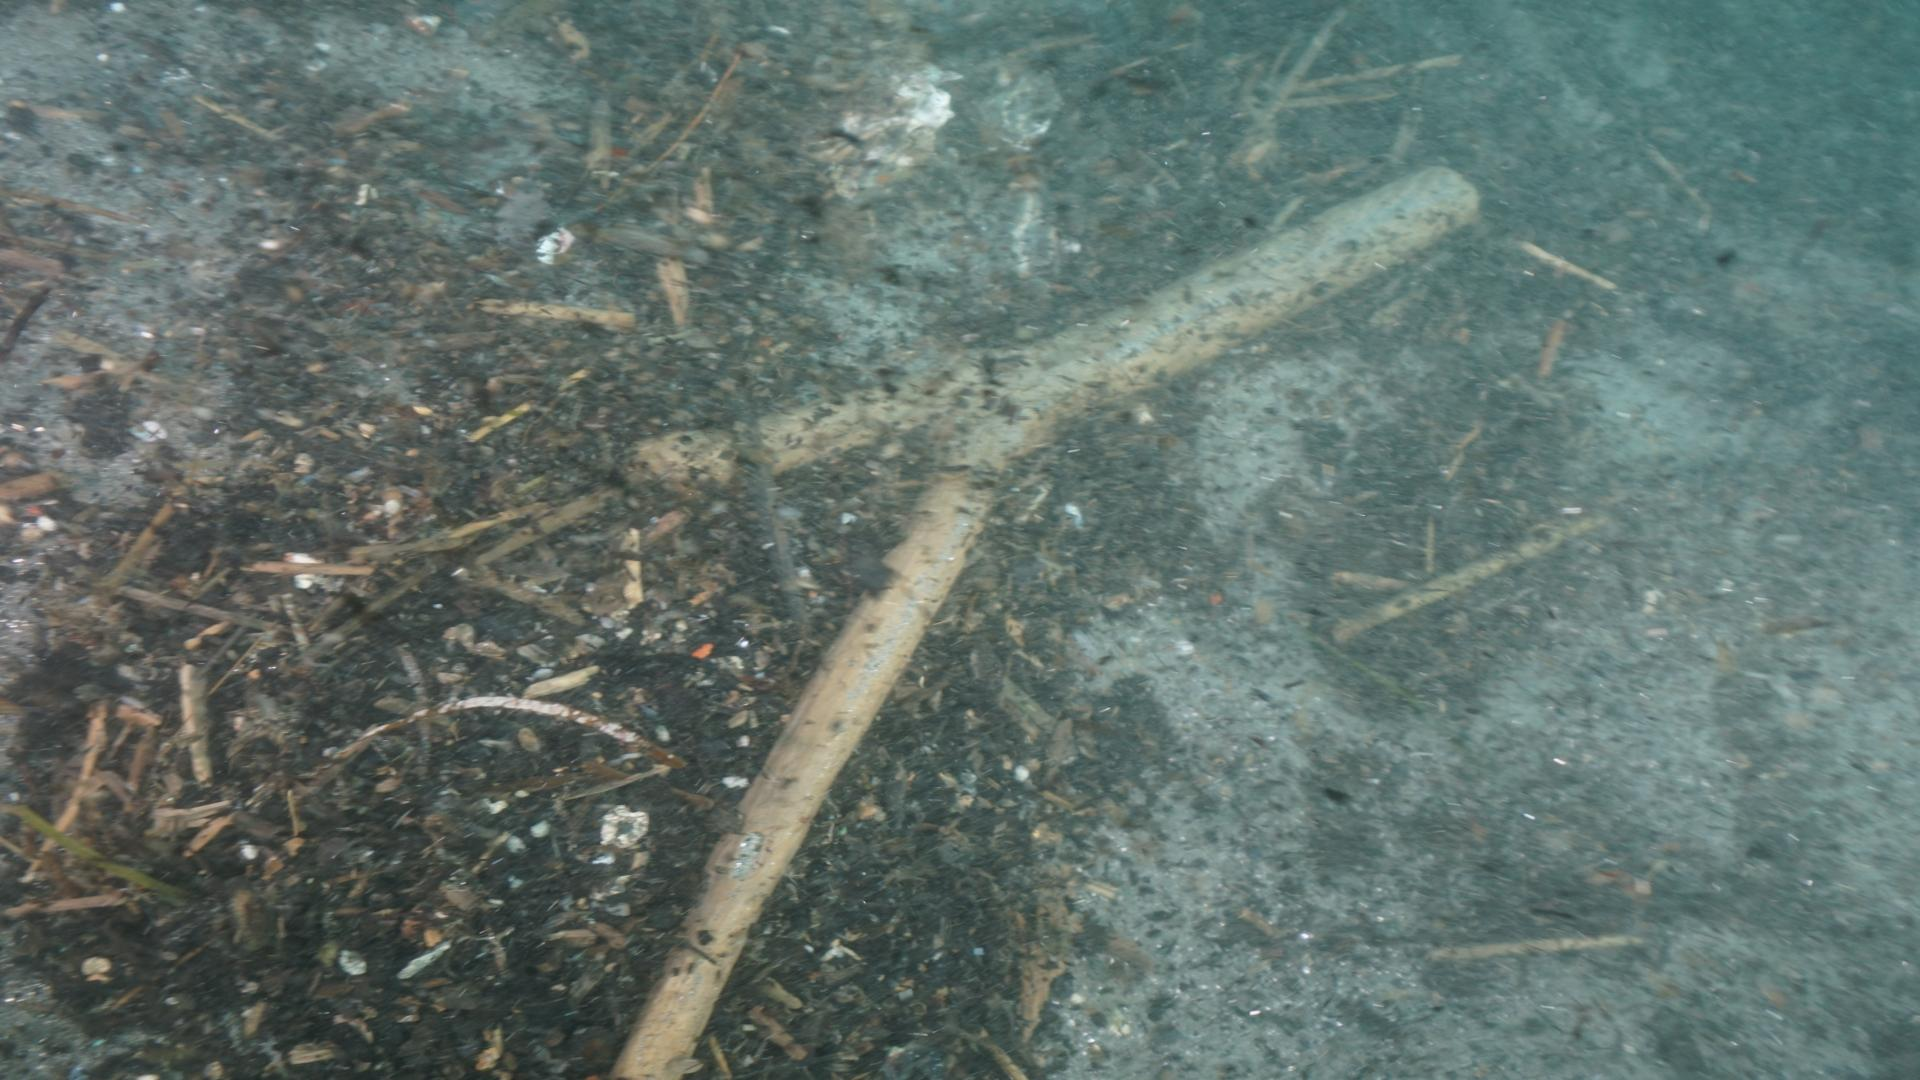wood: (603, 161, 1482, 1080)
